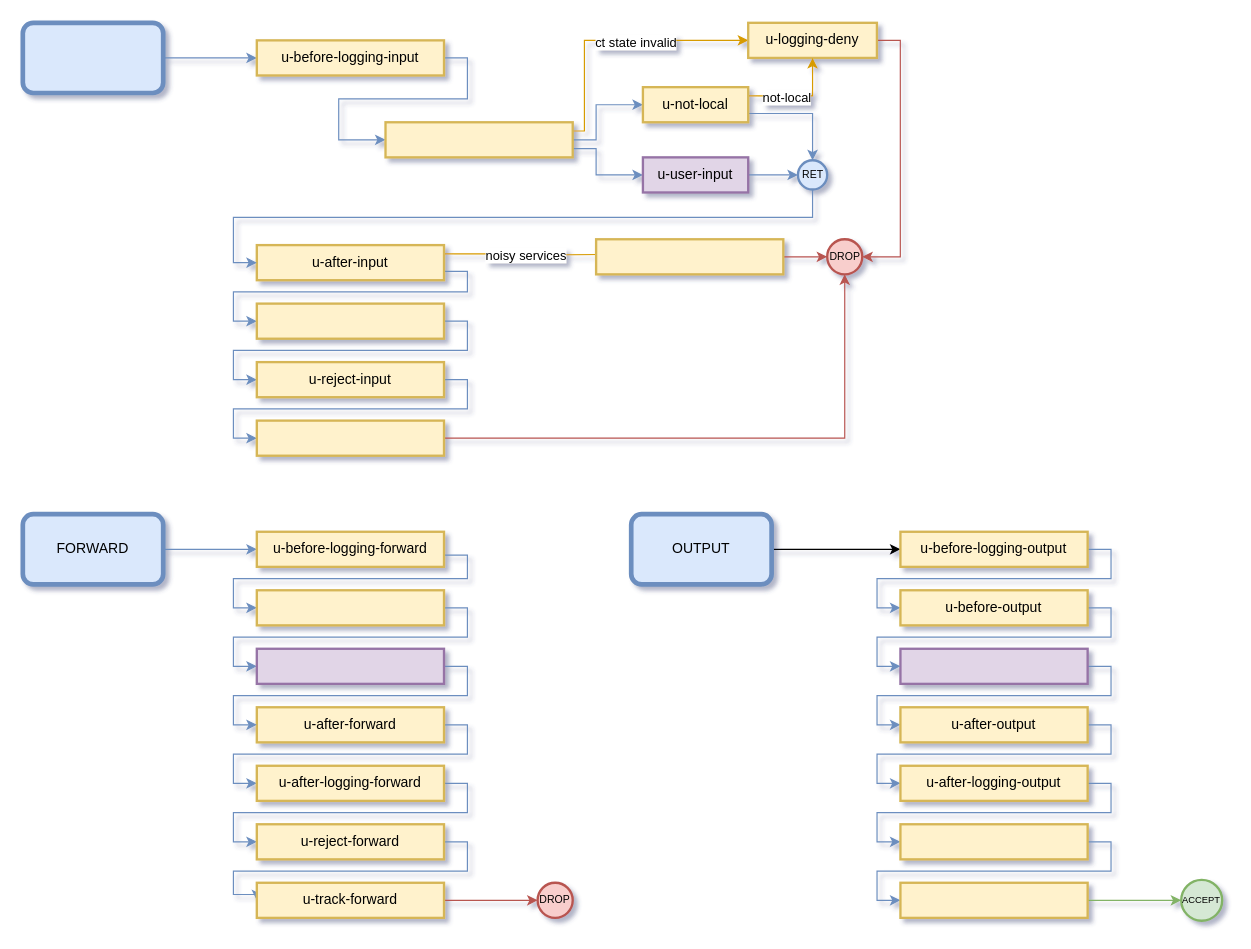
Image size: 1251x949. Some labels were removed from this diagram. The shapes that lost their labels are listed below. From the top down, each one's centre as x and y in pixels, then its label:
At (92,57): "INPUT".
At (478,139): "u-before-input".
At (689,256): "u-skip-to-policy-input".
At (350,320): "u-after-logging-input".
At (350,437): "u-track-input".
At (350,607): "u-before-forward".
At (350,665): "u-user-forward".
At (993,665): "u-user-output".
At (993,841): "u-reject-output".
At (993,899): "u-track-output".
